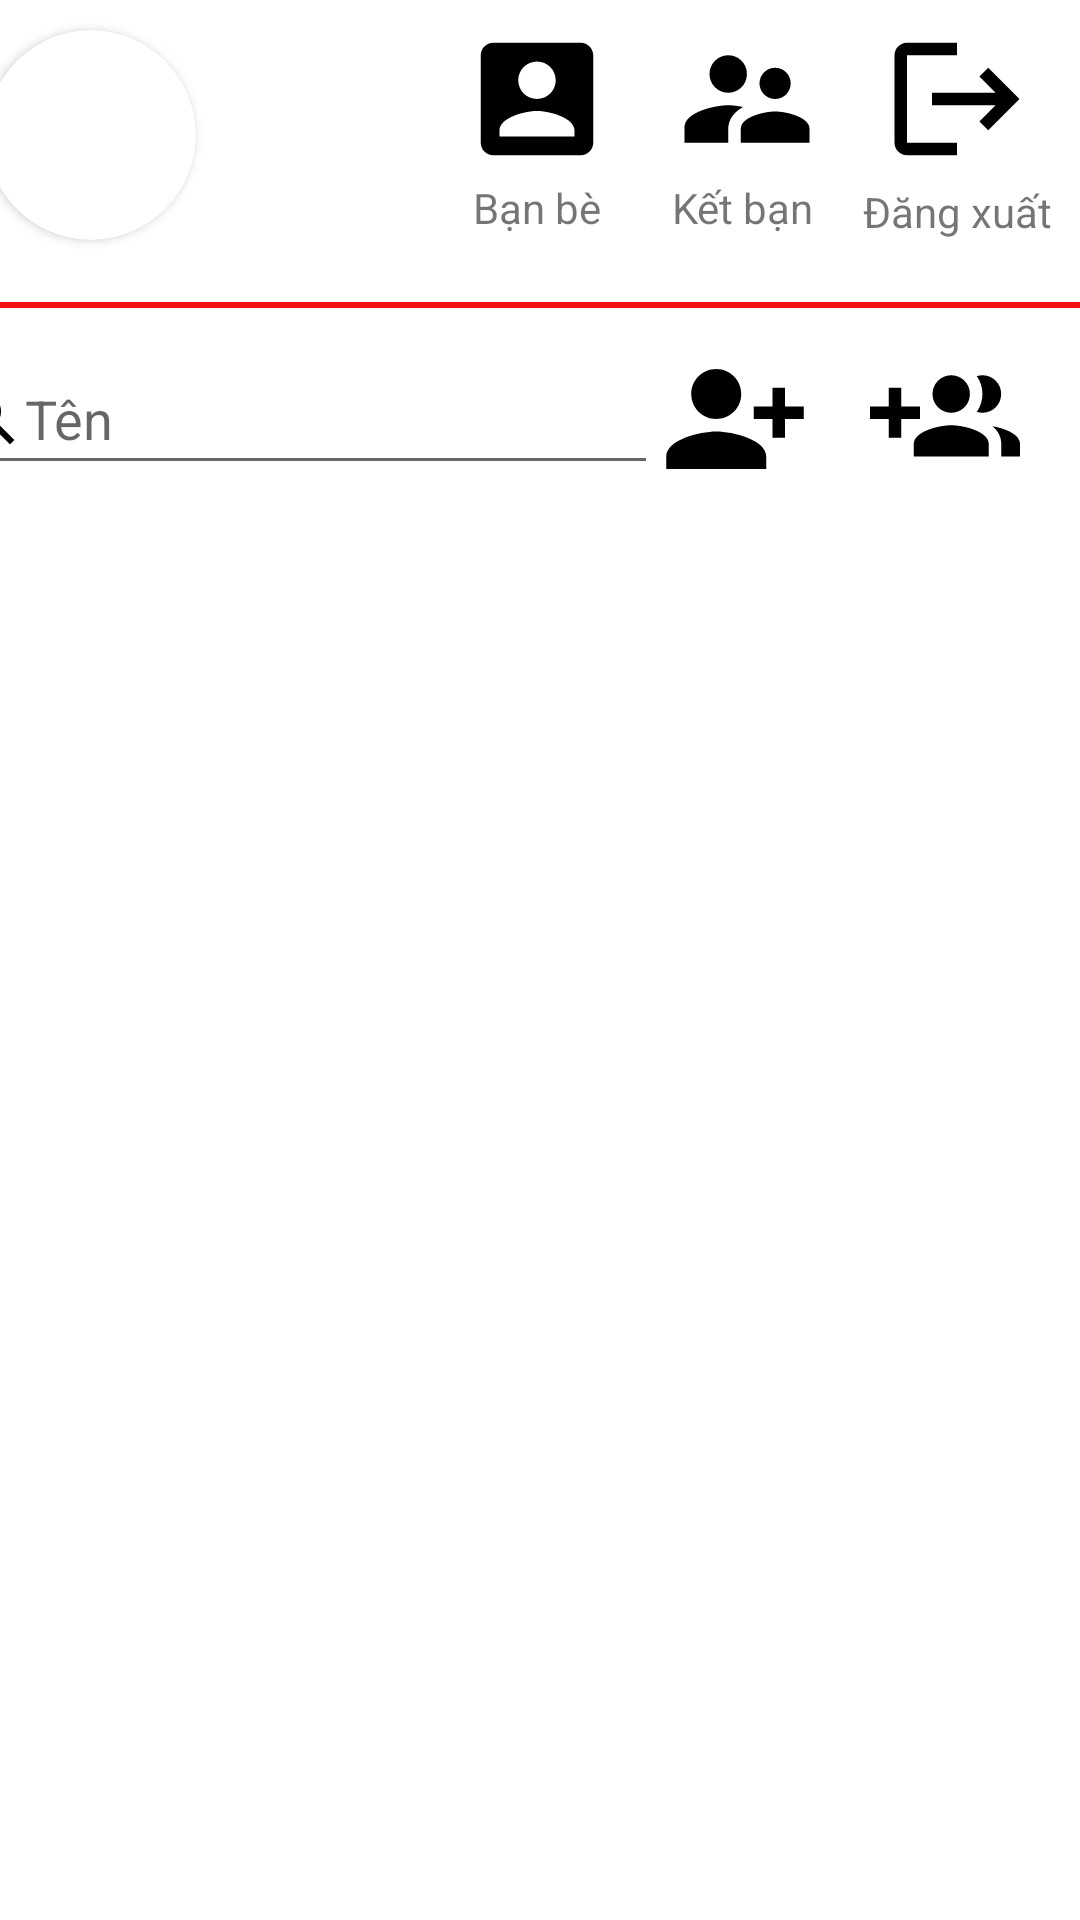

Where to tap for icons on this 1080w x 1920h app screen, as (x,y):
account box: (537,99)
group add: (945,416)
person add: (735,419)
supervisor account: (747,99)
